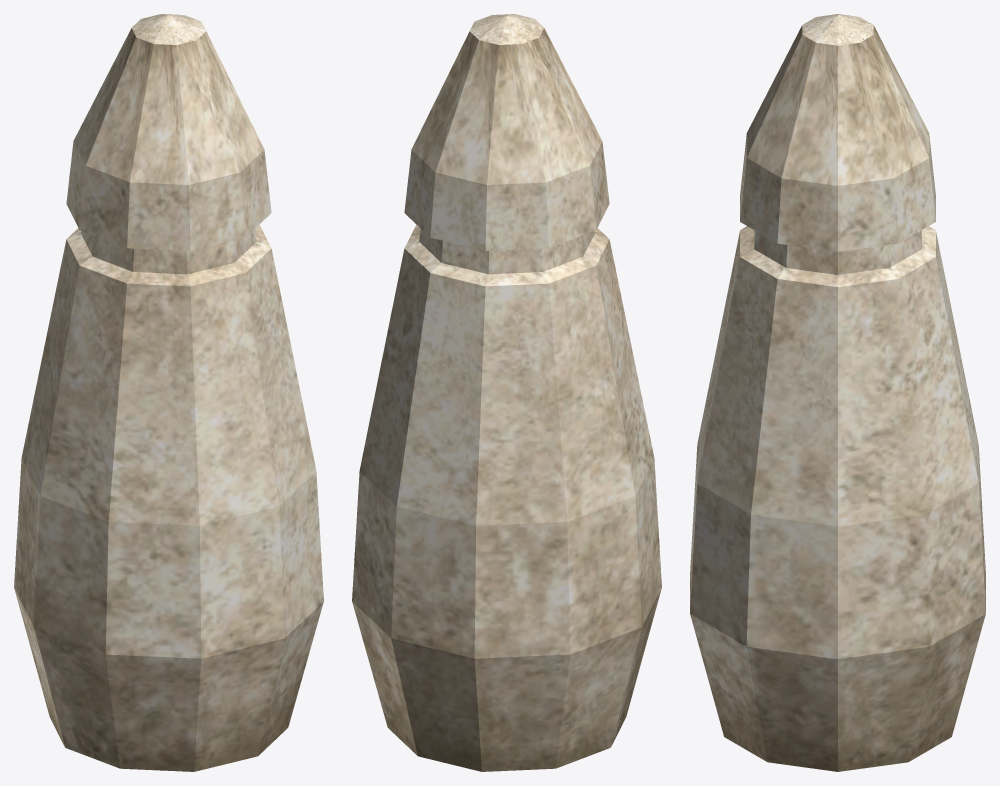
The model's file is thm_tato_jnkshp_pillar_l0.fbx.
The picture shows the model from 3 angles, left to right: view 1: azimuth 30°, elevation 25°; view 2: azimuth 150°, elevation 25°; view 3: azimuth 270°, elevation 25°; orthographic projection.
Visible parts, largest first — view 1: mesh_node; view 2: mesh_node; view 3: mesh_node.
Part boxes in pixels (bbox=[...]): mesh_node: bbox=[14, 14, 323, 771]; mesh_node: bbox=[352, 14, 661, 771]; mesh_node: bbox=[690, 14, 985, 771].
Bounding box in the file's own units: 2.17 × 5.45 × 2.07.
